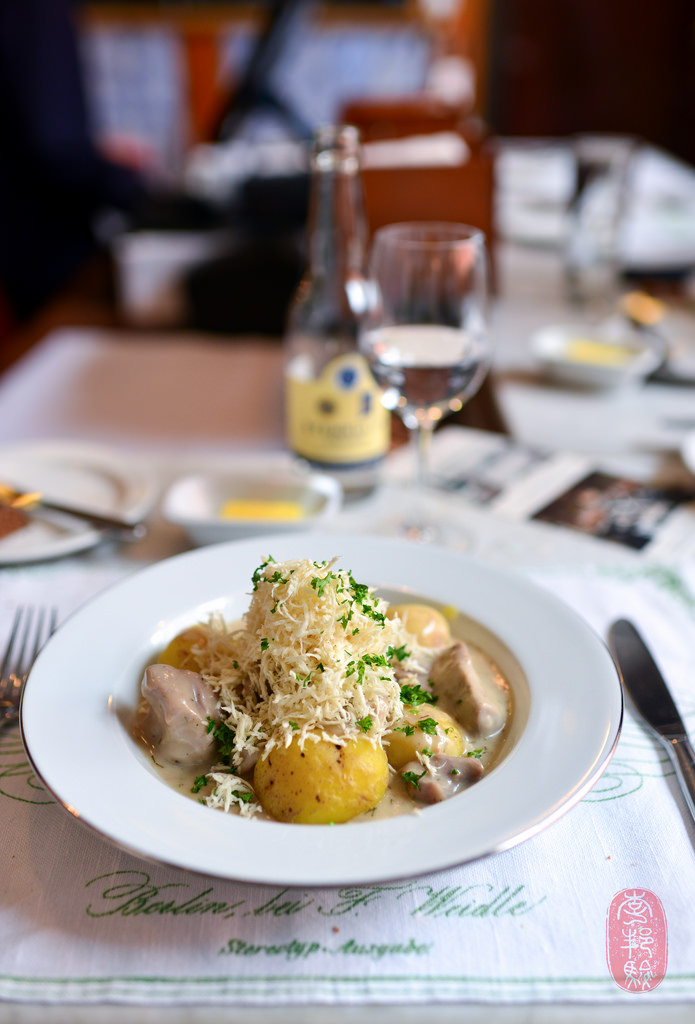boiled potatoes: (235, 727, 397, 820)
glass of water: (364, 217, 510, 527)
